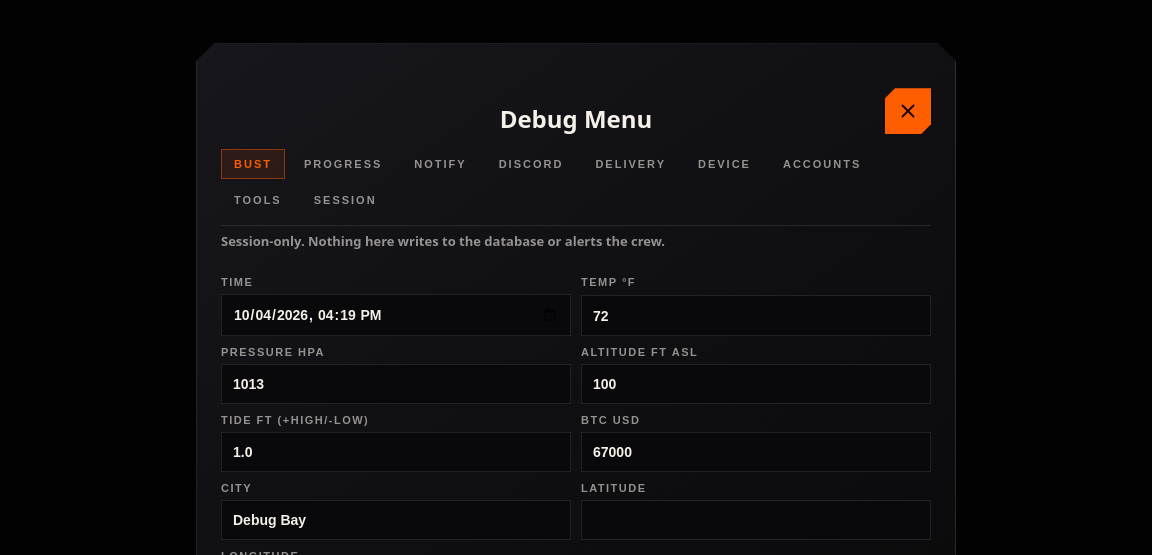
Scenario: DebugMenu › filters on id and tier too, and says so when nothing matches
Click the tab "NOTIFY" at point(440, 164), box top-left (401, 149), bottom-right (480, 179)
(page scrolled)
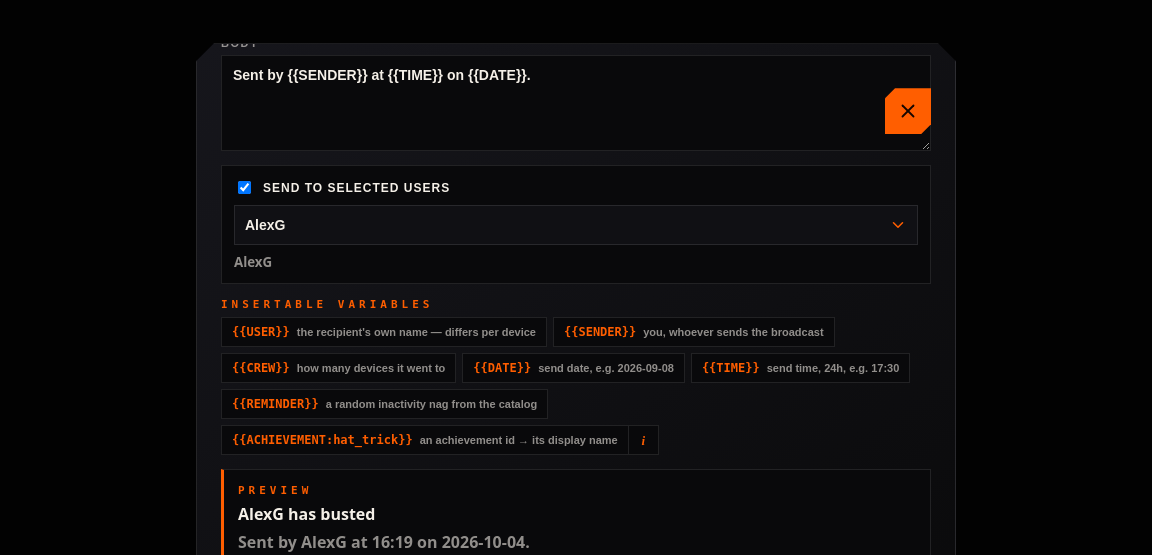
Click the button named "Browse every achievement" at point(644, 440), box top-left (629, 425), bottom-right (659, 455)
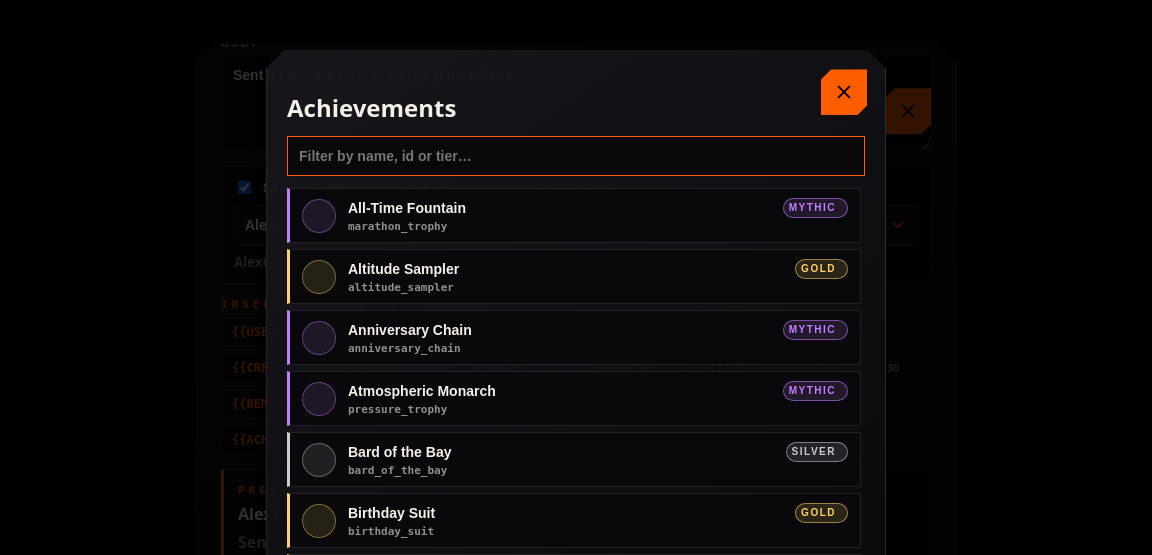
Type "mythic" into the field with placeholder "Filter by name, id or tier…" at point(576, 156), box top-left (287, 136), bottom-right (865, 176)
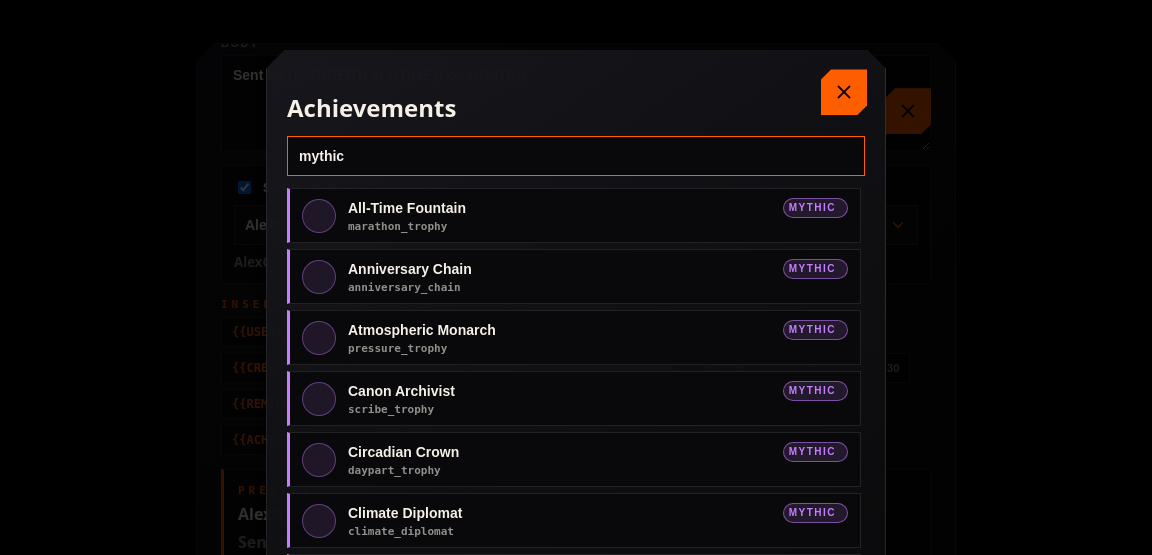
Replace the text in the field with placeholder "Filter by name, id or tier…" with "zzzz-no-such-thing" at point(576, 156), box top-left (287, 136), bottom-right (865, 176)
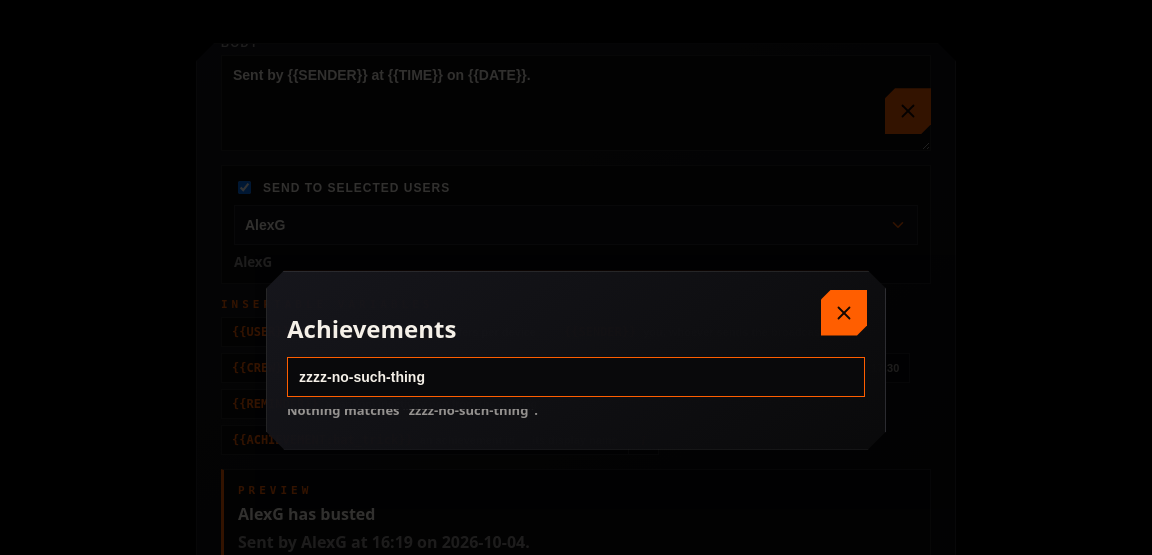
Check: no buttons with class "ach-picker-row" are shown
